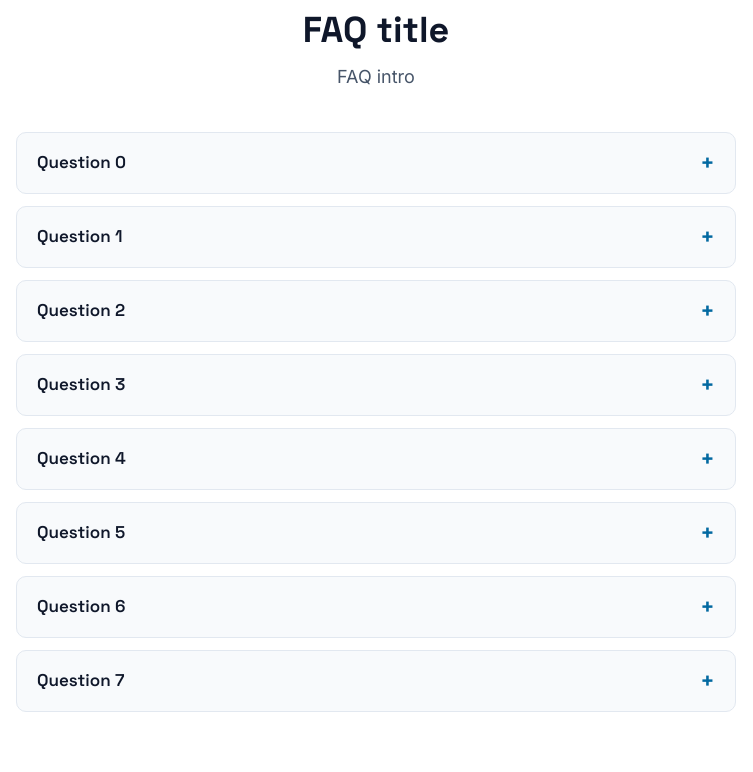
Test: FaqComponent › should expand an item on toggle and set aria-expanded
What coordinates should you click on to do the following:
click the button with test id "faq-question-0"
I would click on:
 (81, 162)
Its box is [17,133,735,193].
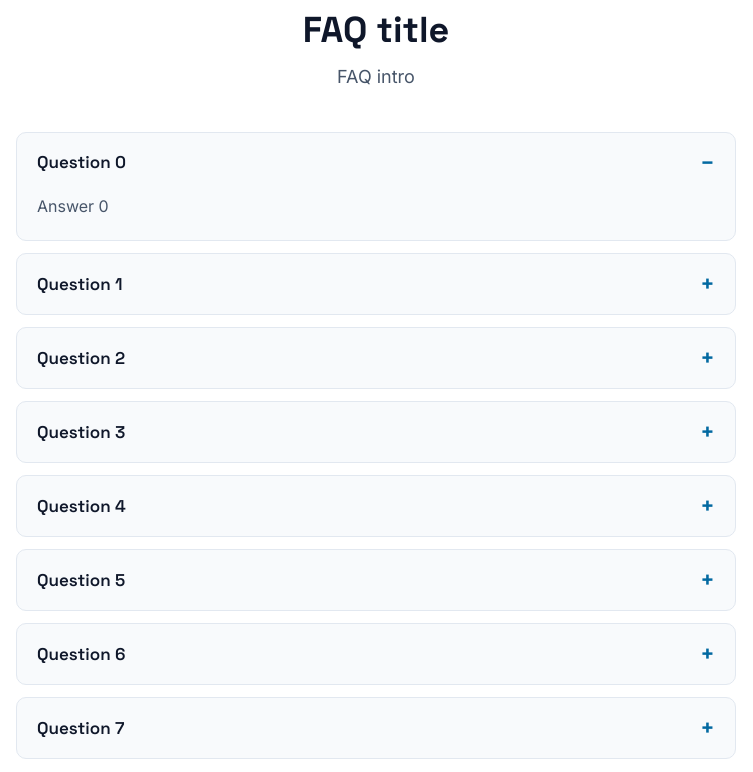
Expected: the button with test id "faq-question-0" is expanded, [17,133,735,193]
Expected: the element with test id "faq-answer-0" is shown, [37,196,109,216]
